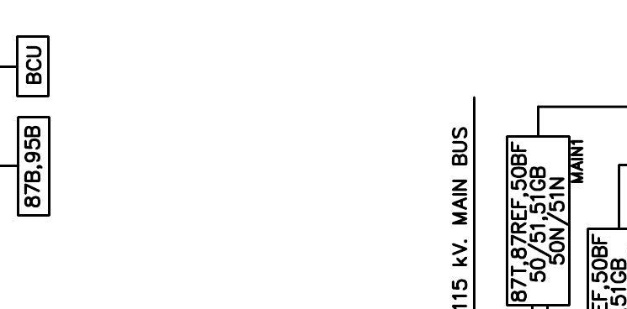BCU: (15, 34, 50, 98)
